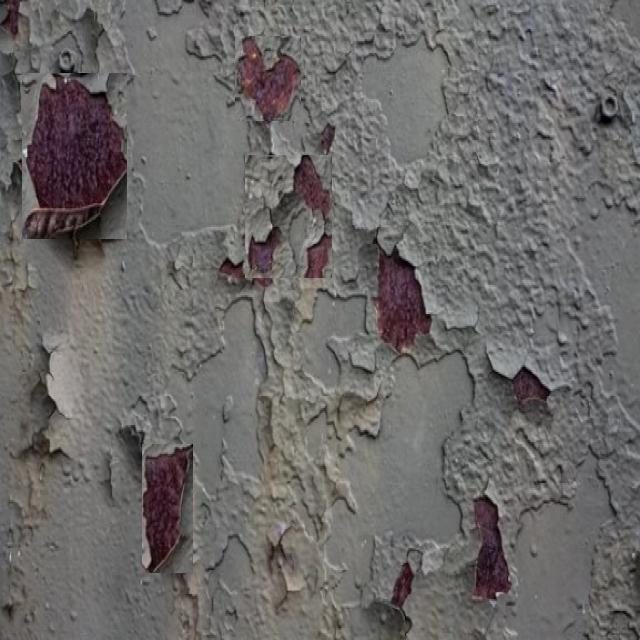Corrosion: (27, 76, 126, 208), (239, 37, 300, 122), (294, 155, 331, 216), (249, 228, 280, 274), (305, 234, 332, 278), (219, 259, 244, 280), (320, 123, 336, 154)
